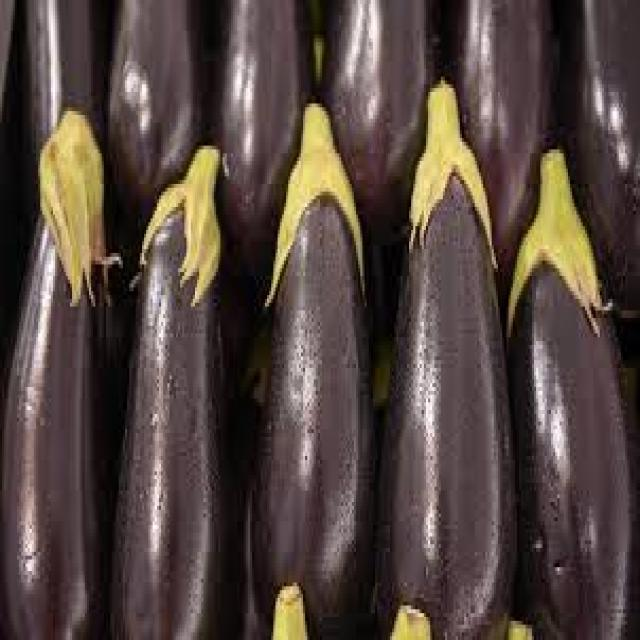eggplant: (133, 136, 282, 640), (496, 145, 640, 640), (392, 88, 514, 640), (9, 99, 125, 640), (265, 80, 374, 640), (456, 0, 566, 243), (322, 0, 458, 191), (557, 0, 639, 295), (216, 0, 312, 239), (98, 8, 216, 190), (19, 0, 115, 173)
